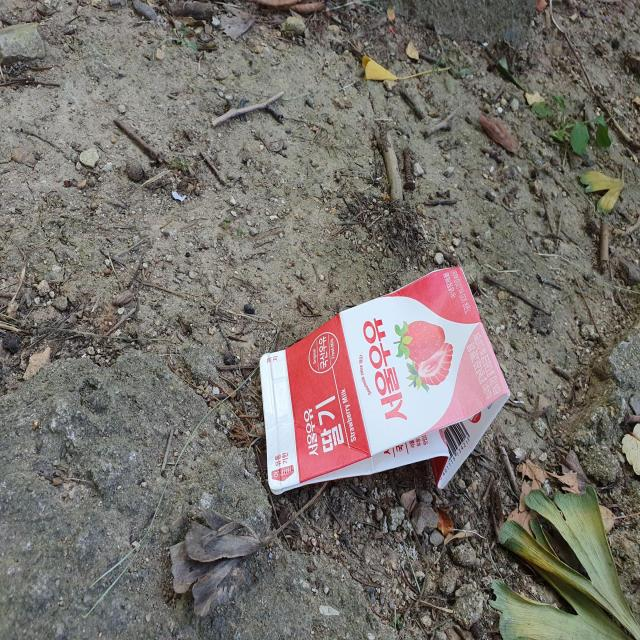paperpack: (260, 267, 510, 495)
